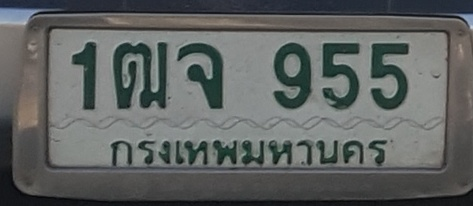num1: (67, 40, 100, 111)
txt06: (176, 40, 225, 111)
txt13: (110, 40, 169, 113)
